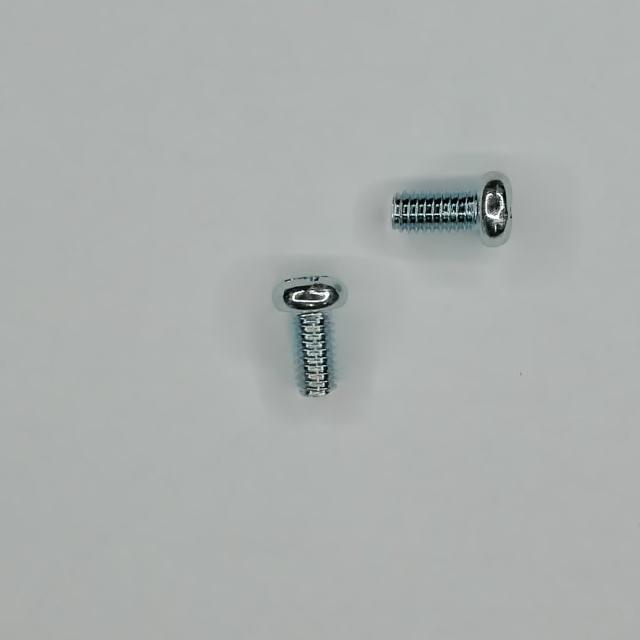Screw: (273, 276, 348, 398), (392, 172, 513, 246)
